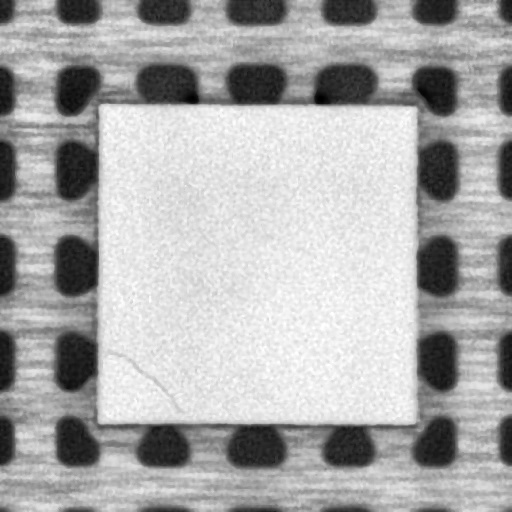DIE_CRACK: (107, 348, 183, 414)
